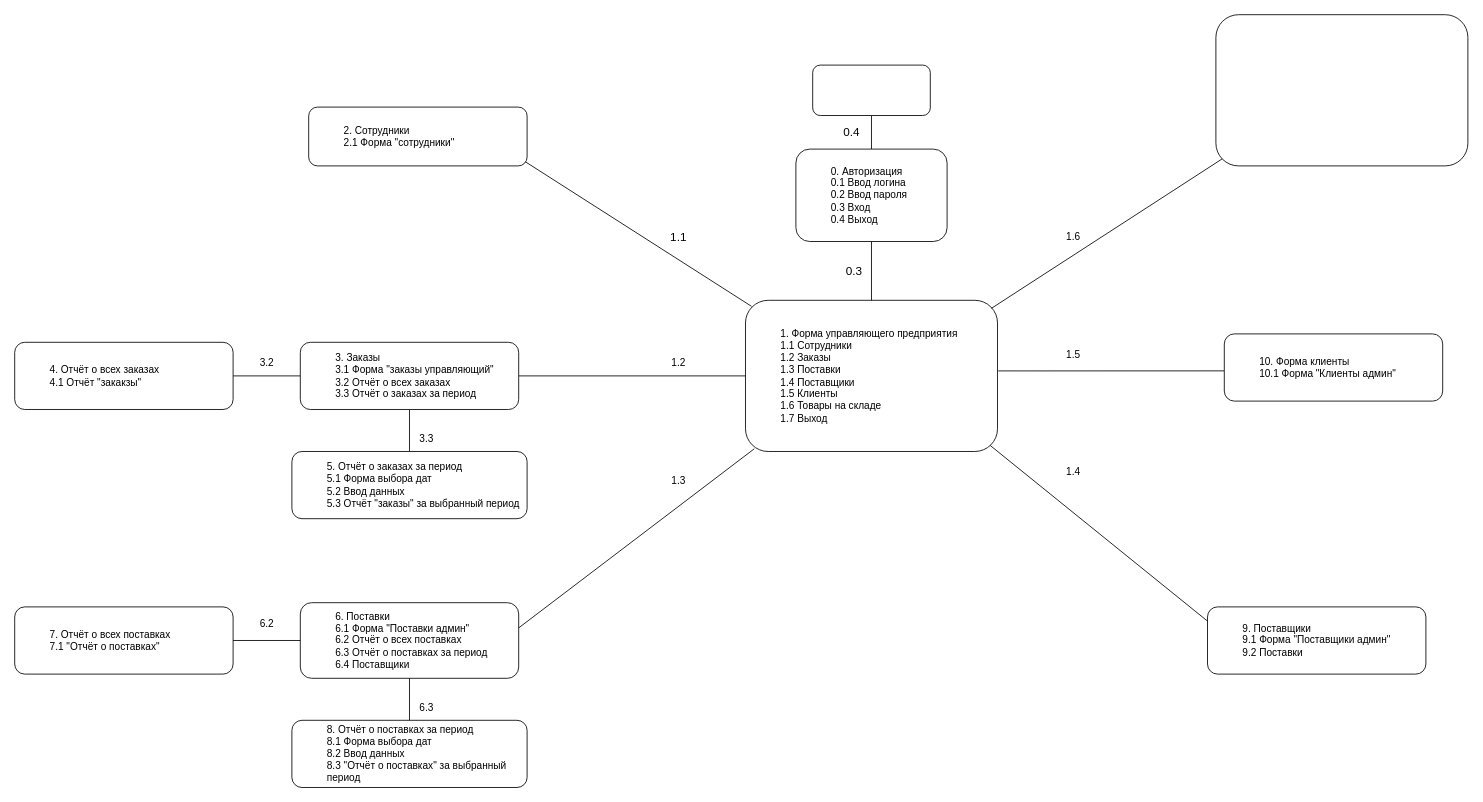
Some shapes in this 1483 by 802 pixel diagram are drawn without their labels. Each missing label, with the centre of its shape:
11. Товары на складе 11.1 Форма "Товары на складе": (x=1341, y=90)
7 Выход: (x=871, y=90)
